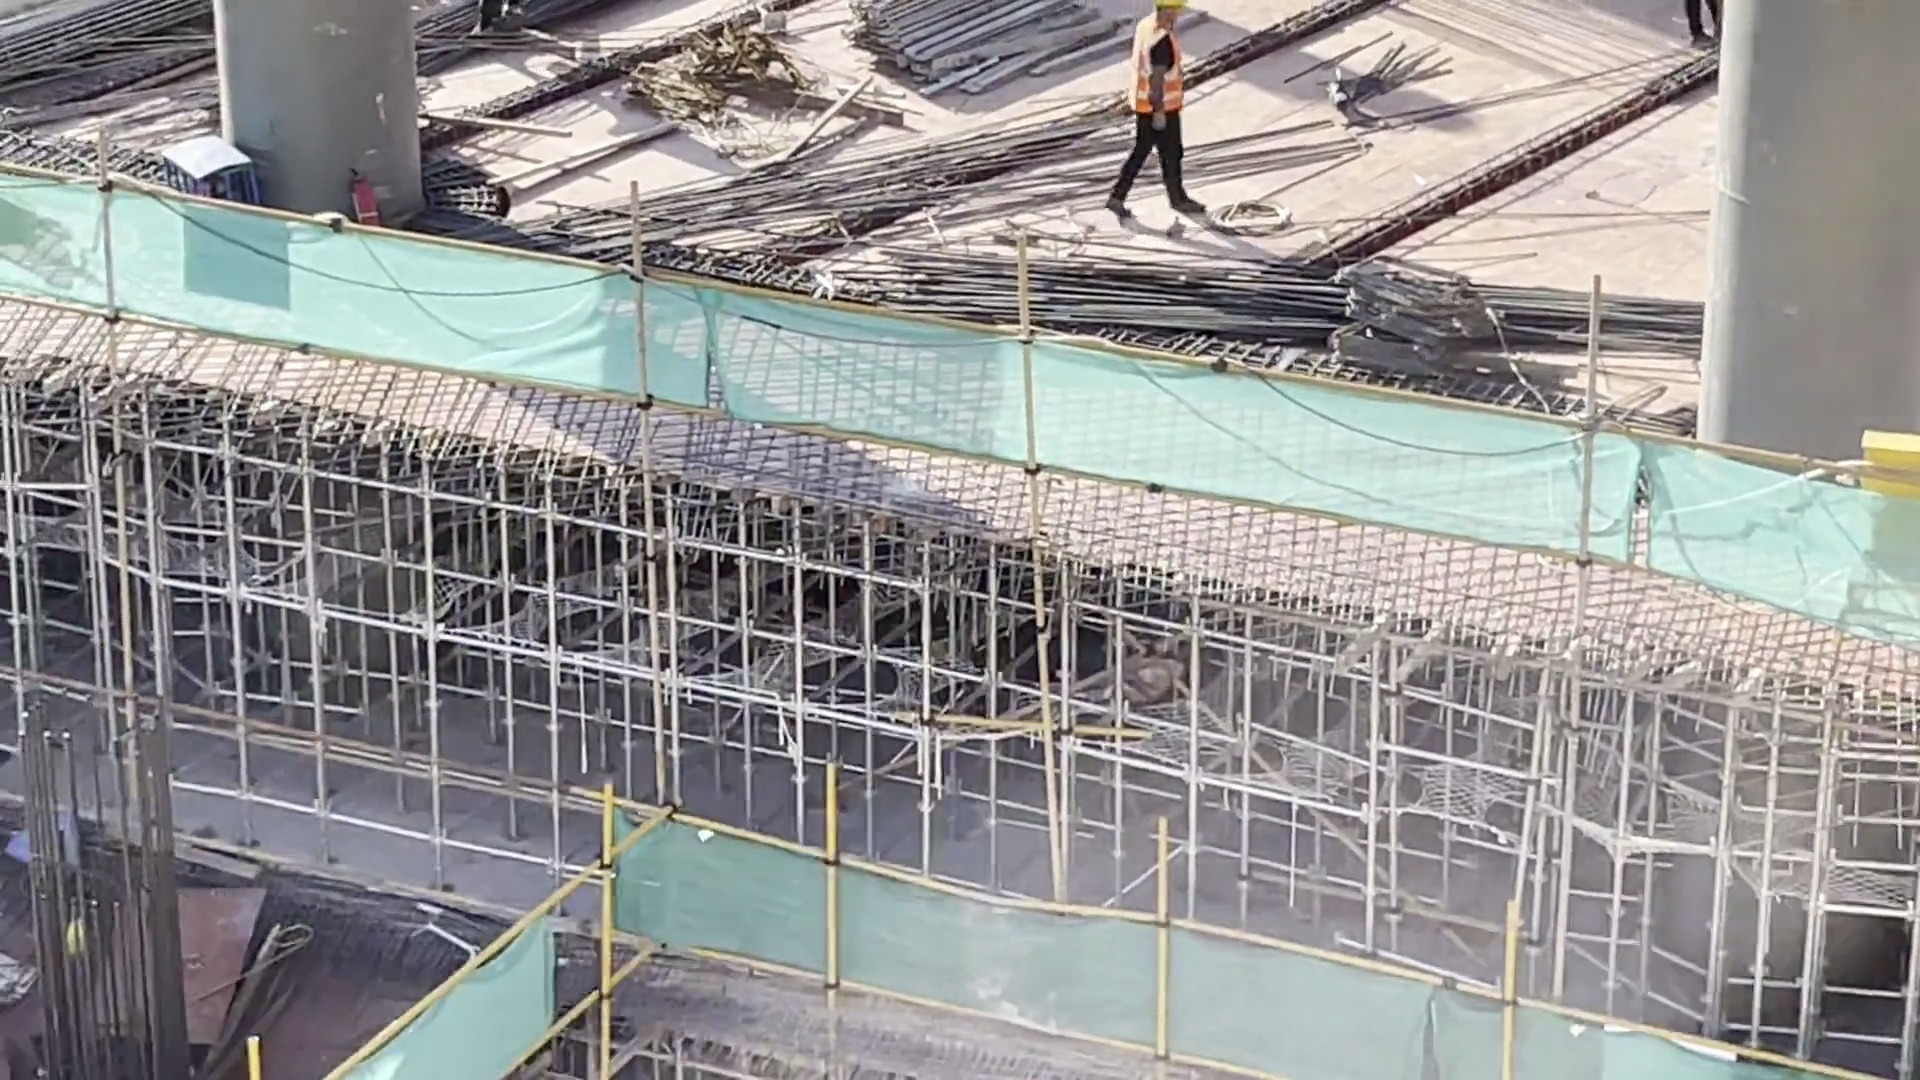person: (1099, 1, 1203, 227)
vest: (1123, 13, 1187, 111)
